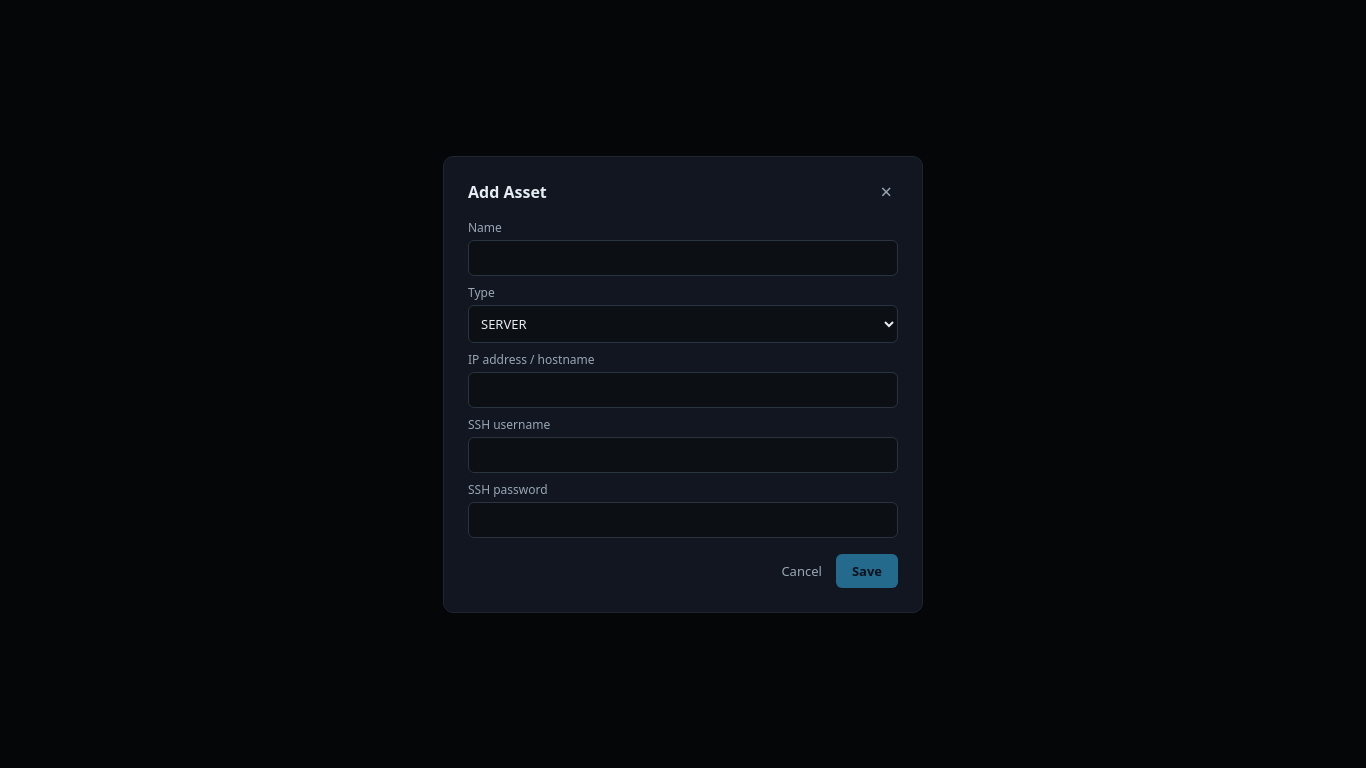
Scenario: CreateAssetModalComponent › enables the submit button once all fields are valid
Type "web-server-01" into the field with test id "form-name" at (683, 258), box left=468, top=240, right=898, bottom=276
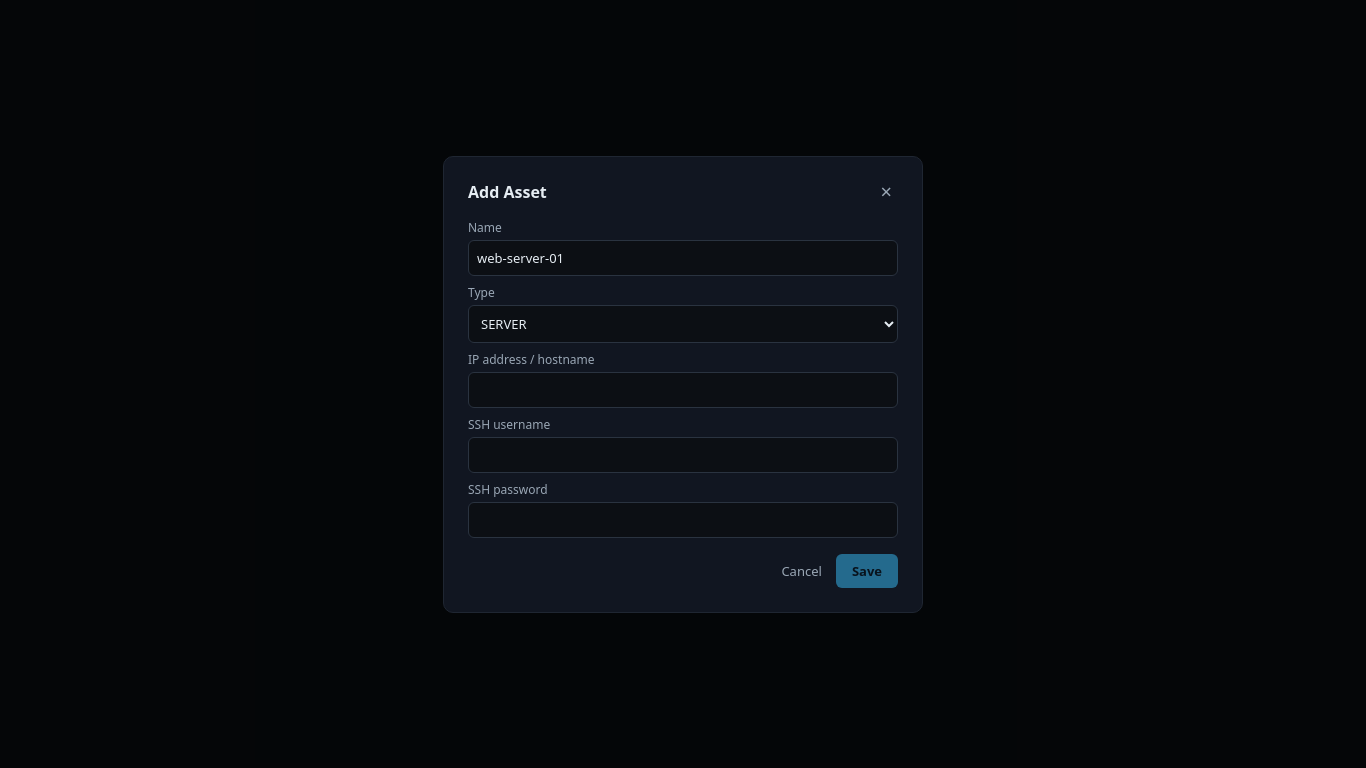
Select "SERVER" in the dropdown with test id "form-type" at (683, 324), box left=468, top=304, right=898, bottom=342
Type "192.168.1.10" into the field with test id "form-ip" at (683, 390), box left=468, top=372, right=898, bottom=408
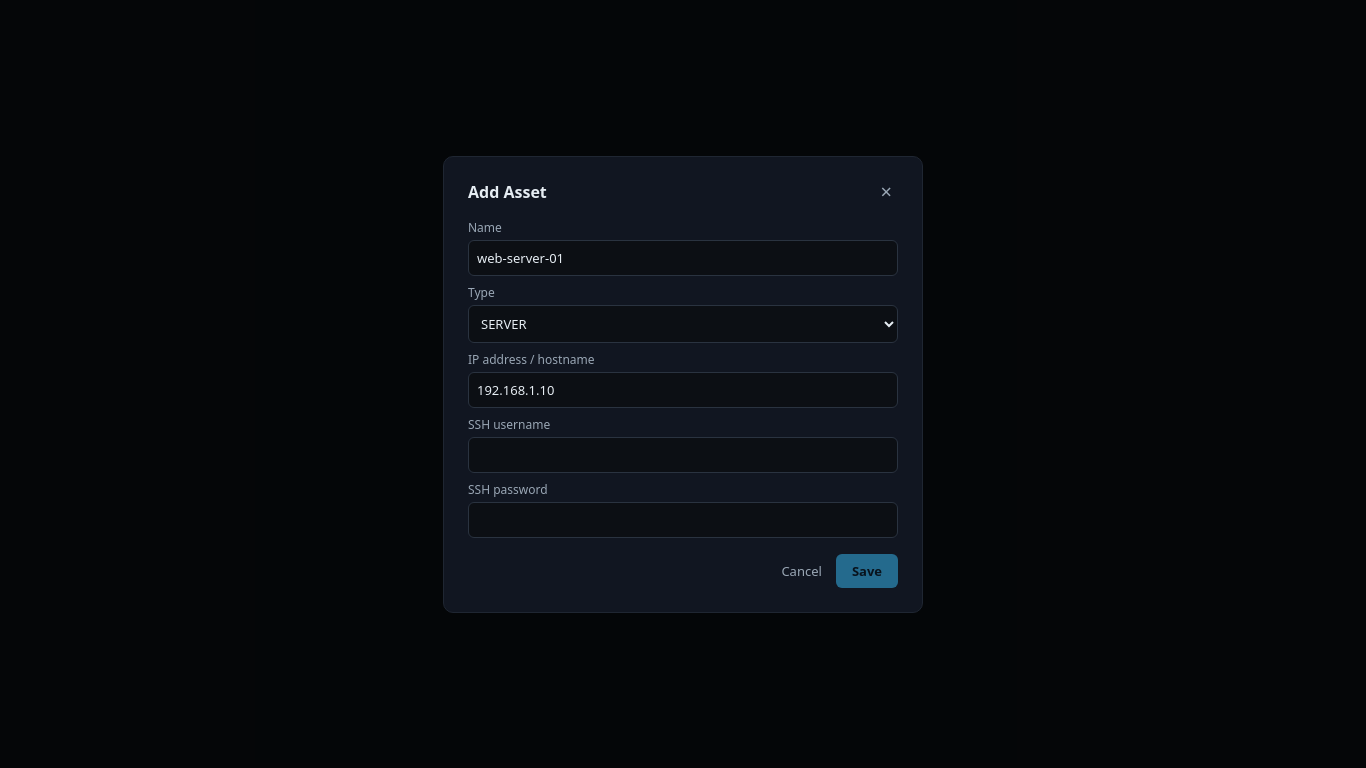
Type "sshuser" into the field with test id "form-username" at (683, 454), box left=468, top=436, right=898, bottom=472
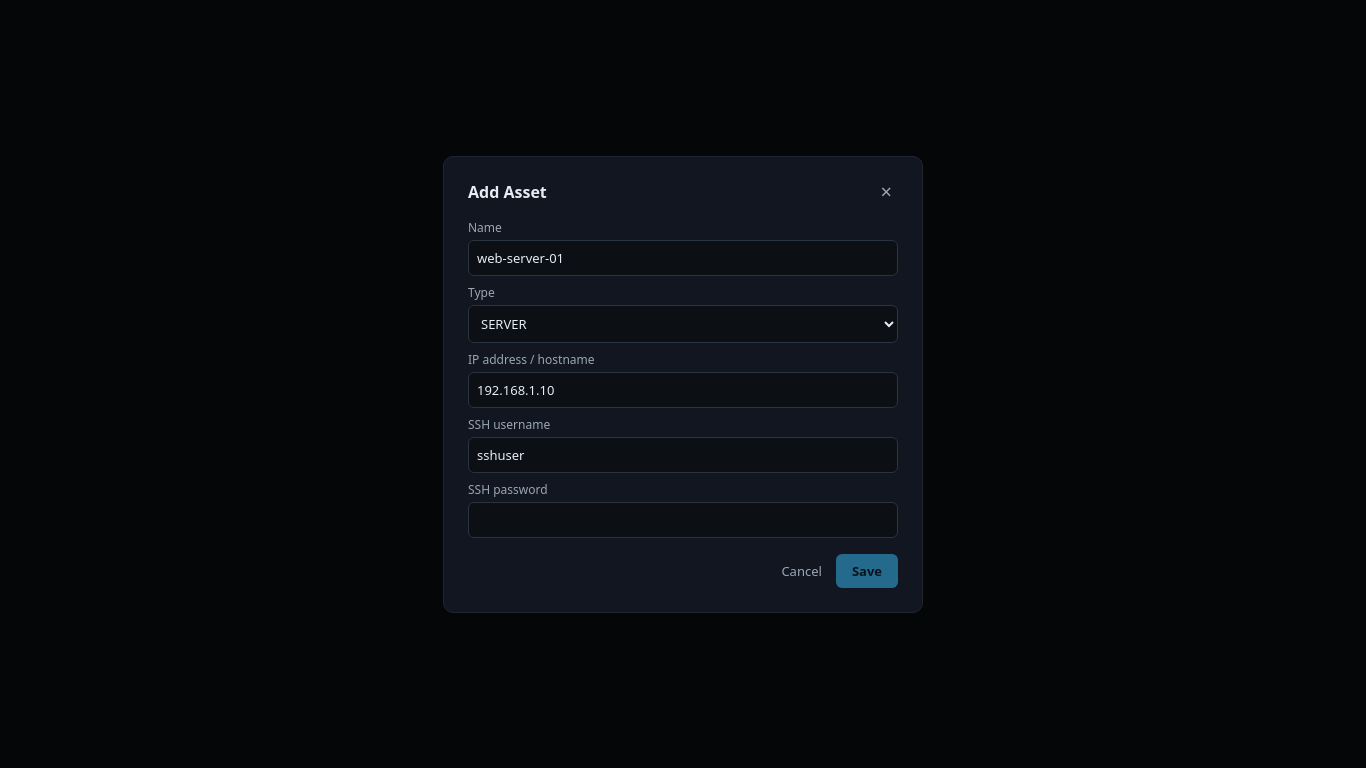
Type "secret" into the password field with test id "form-password" at (683, 520), box left=468, top=502, right=898, bottom=538
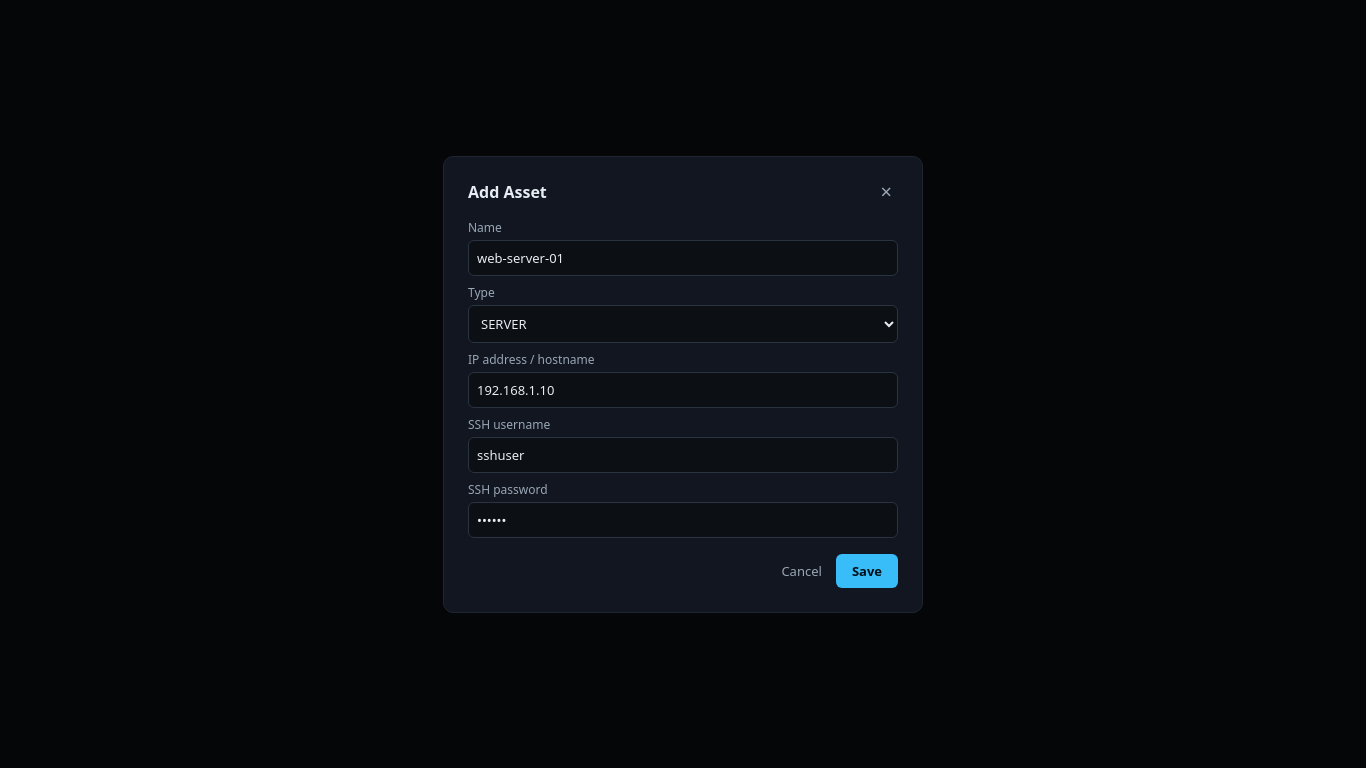
Expected: the button with test id "modal-submit" is enabled, left=836, top=554, right=898, bottom=588
